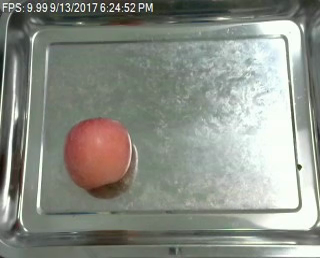Apple: (61, 117, 137, 190)
